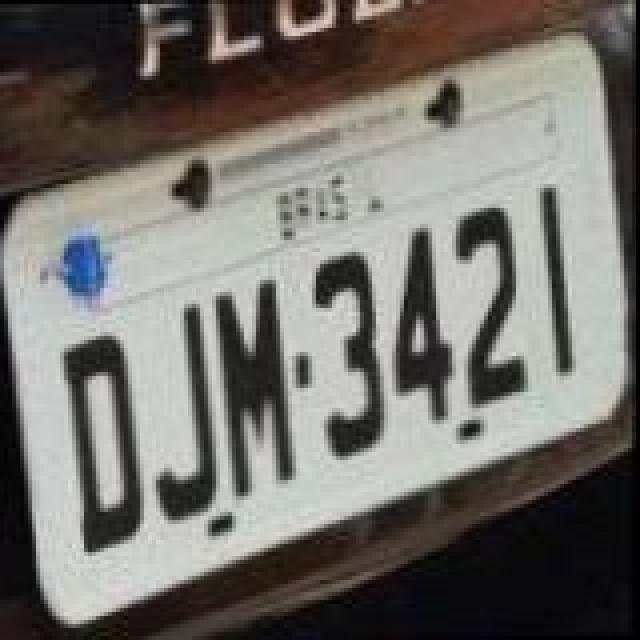1: (532, 184, 580, 384)
2: (450, 204, 534, 412)
3: (306, 250, 390, 462)
4: (388, 224, 460, 428)
D: (58, 332, 150, 556)
J: (152, 302, 228, 526)
M: (212, 280, 304, 508)
